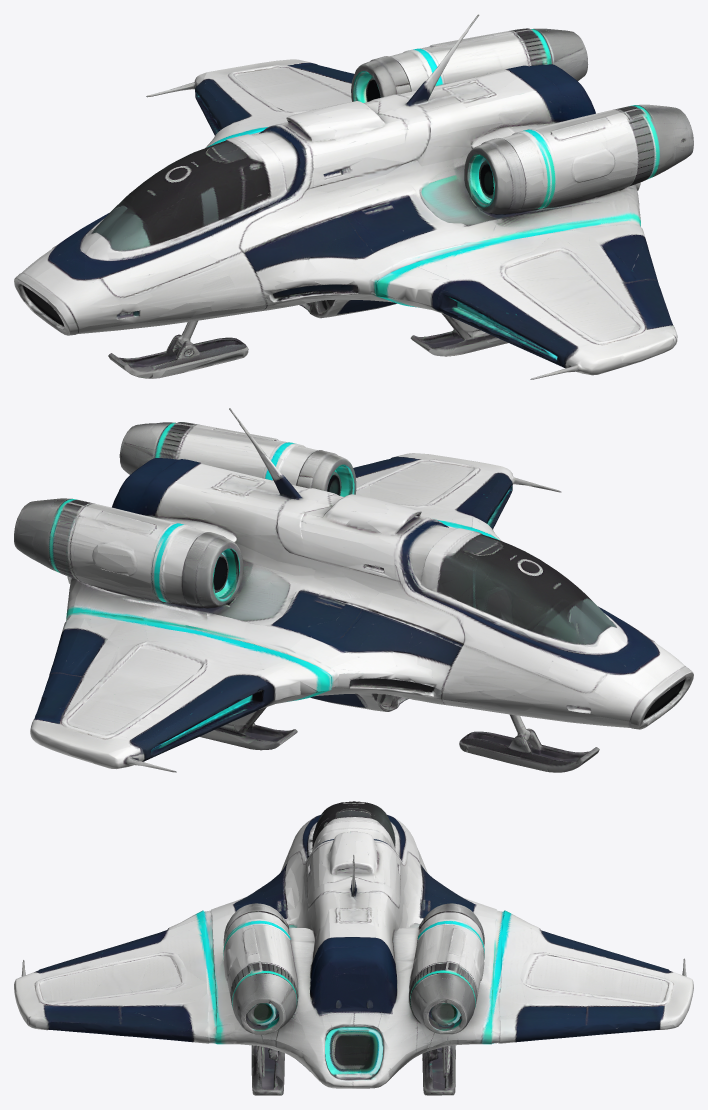
Rendered from ship.glb.
The picture shows the model from 3 angles, top to bottom: view 1: azimuth 30°, elevation 25°; view 2: azimuth 150°, elevation 25°; view 3: azimuth 270°, elevation 25°; orthographic projection. The views are drawn at different scales.
Bounding box in the file's own units: 1.65 × 0.7372 × 1.9.
1 material, 1 textured.
